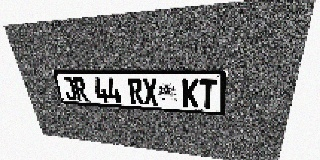4: (105, 78, 122, 103), (93, 77, 109, 102)
J: (61, 77, 78, 101)
K: (182, 79, 199, 108)
R: (128, 78, 144, 105), (72, 77, 89, 101)
T: (199, 79, 217, 109)
X: (142, 78, 159, 105)
